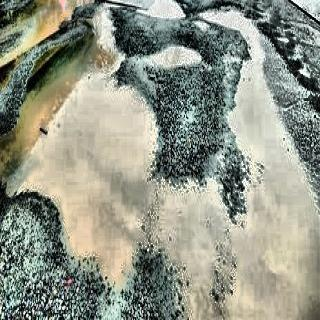pothole: (0, 65, 163, 292), (163, 104, 320, 320), (197, 2, 314, 104), (0, 0, 91, 72), (132, 36, 206, 70), (94, 1, 187, 28)
